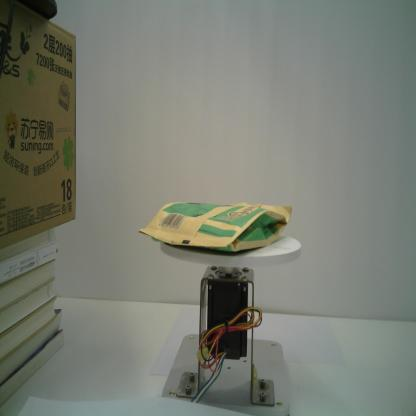Dried Food: (137, 200, 294, 255)
